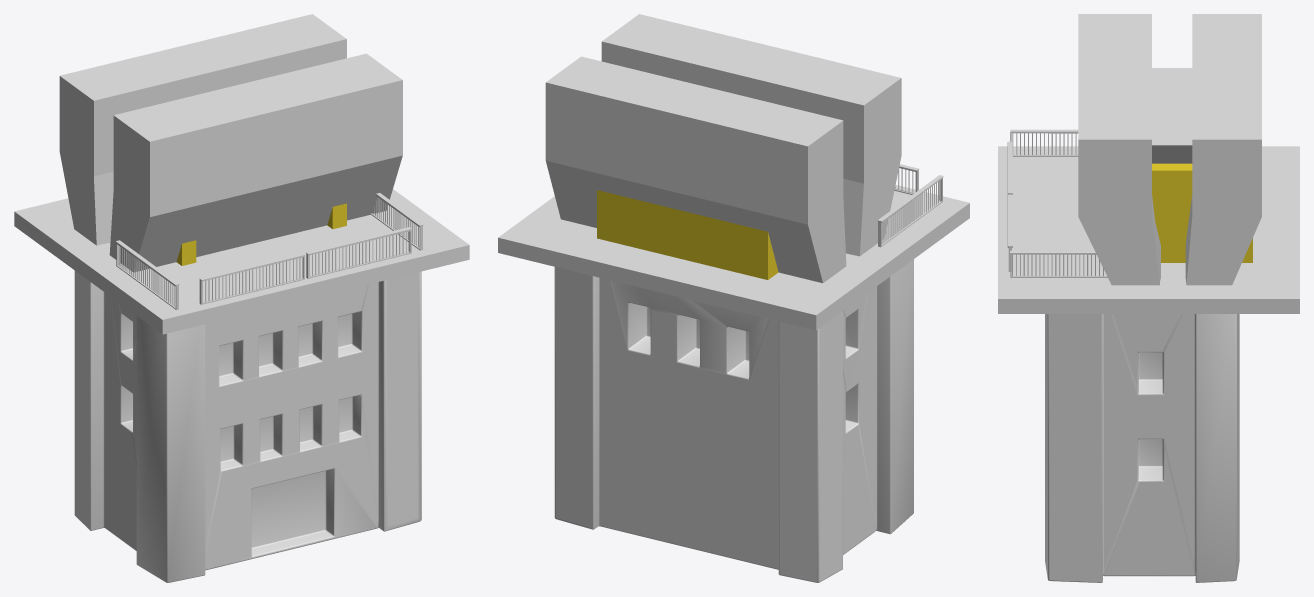
The model's file is Ghetto Slums 7.fbx.
The picture shows the model from 3 angles, left to right: view 1: azimuth 30°, elevation 25°; view 2: azimuth 150°, elevation 25°; view 3: azimuth 270°, elevation 25°; orthographic projection. The views are drawn at different scales.
Visible parts, largest first — view 1: Cube.062, Cube.065, Cube.063, uploads_files_618562_Railing+OBJ.007, uploads_files_618562_Railing+OBJ.002, uploads_files_618562_Railing+OBJ.009, uploads_files_618562_Railing+OBJ.006, Cube.064; view 2: Cube.062, Cube.065, Cube.063, Cube.064, uploads_files_618562_Railing+OBJ.009; view 3: Cube.062, Cube.065, Cube.063, Cube.064, uploads_files_618562_Railing+OBJ.006, uploads_files_618562_Railing+OBJ.009, uploads_files_618562_Railing+OBJ.002.
Boxes of the visible parts, x1,y1,x2,y2 form: Cube.062: (74,270,421,582); Cube.065: (59,14,402,272); Cube.063: (14,189,469,334); uploads_files_618562_Railing+OBJ.007: (199,253,305,304); uploads_files_618562_Railing+OBJ.002: (306,227,411,278); uploads_files_618562_Railing+OBJ.009: (116,240,179,309); uploads_files_618562_Railing+OBJ.006: (370,193,423,250); Cube.064: (176,203,346,265); Cube.062: (554,259,913,582); Cube.065: (545,14,901,283); Cube.063: (498,185,969,330); Cube.064: (597,190,778,279); uploads_files_618562_Railing+OBJ.009: (877,175,943,247); Cube.062: (1045,314,1239,582); Cube.065: (1078,14,1261,285); Cube.063: (998,146,1299,313); Cube.064: (1100,163,1252,262); uploads_files_618562_Railing+OBJ.006: (1010,250,1107,277); uploads_files_618562_Railing+OBJ.009: (1010,129,1078,156); uploads_files_618562_Railing+OBJ.002: (1007,194,1012,271).
Size of the model in its own units: 525 by 704 by 438.
